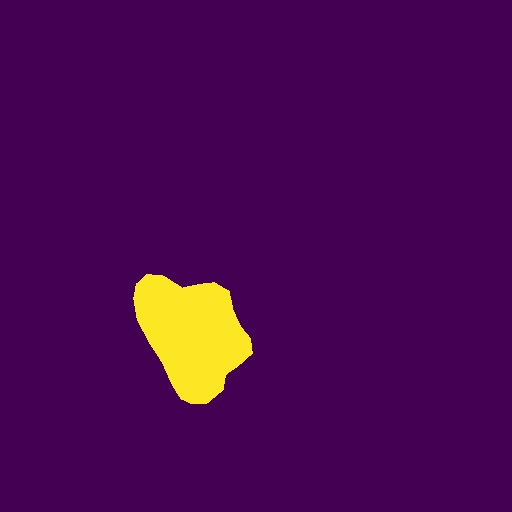Gliomia_tumour: (133, 274, 253, 404)
